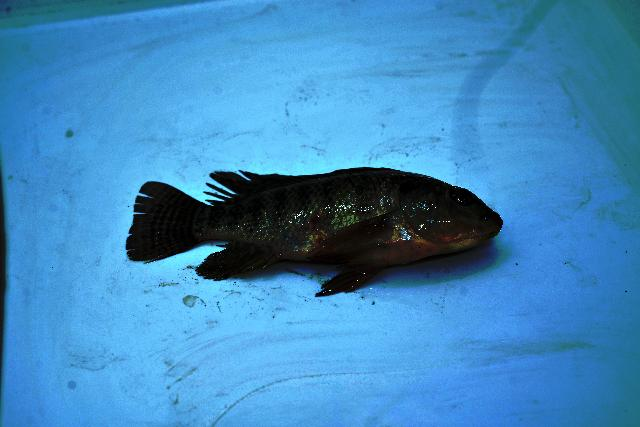Columnaris Disease: (126, 168, 502, 296)
